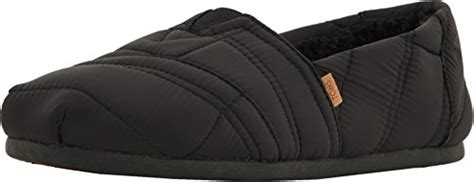nylon: (1, 1, 474, 163)
